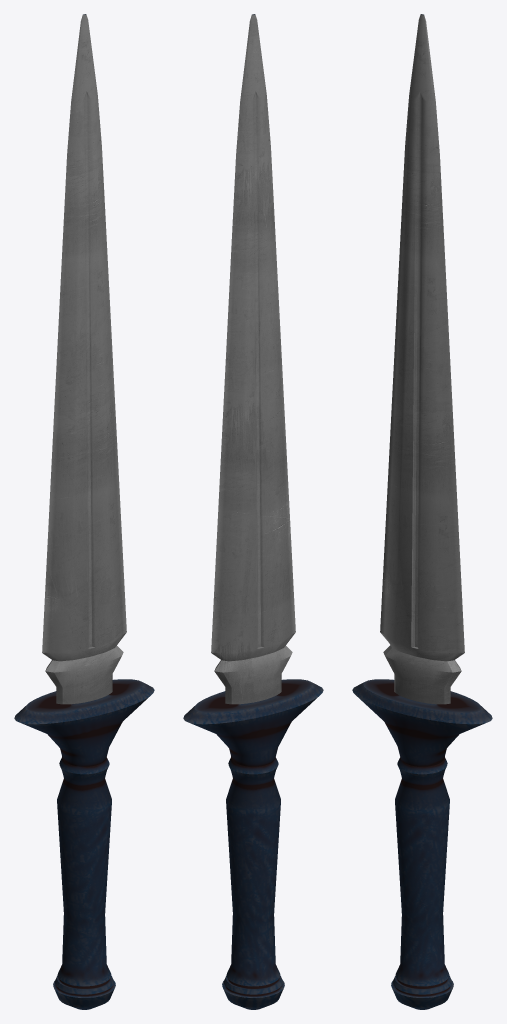
Rendered from kısa kılıc.fbx.
The picture shows the model from 3 angles, left to right: view 1: azimuth 30°, elevation 25°; view 2: azimuth 210°, elevation 25°; view 3: azimuth 330°, elevation 25°; orthographic projection.
Visible parts, largest first — view 1: kılıc kısa; view 2: kılıc kısa; view 3: kılıc kısa.
Part boxes in pixels (x1,y1,x2,y2): kılıc kısa: (14, 14, 154, 1009); kılıc kısa: (183, 14, 323, 1009); kılıc kısa: (352, 14, 492, 1009).
Size of the model in its own units: 804 by 5553 by 319.
1 material, 1 textured.
